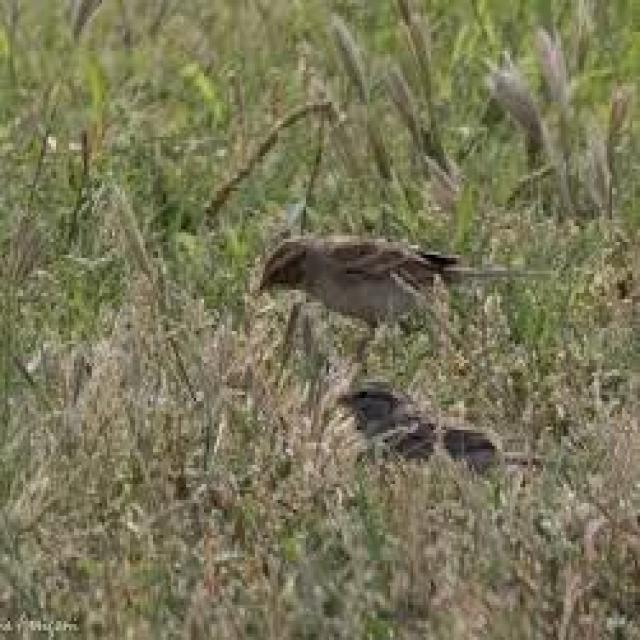bird: (254, 229, 532, 345)
